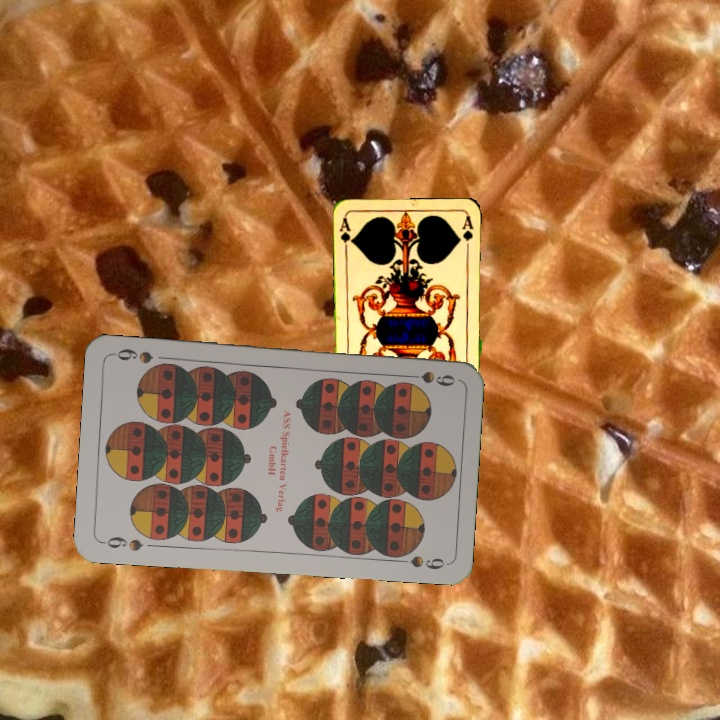GA: (336, 214, 356, 254)
S9: (399, 367, 458, 389), (98, 532, 145, 554)
